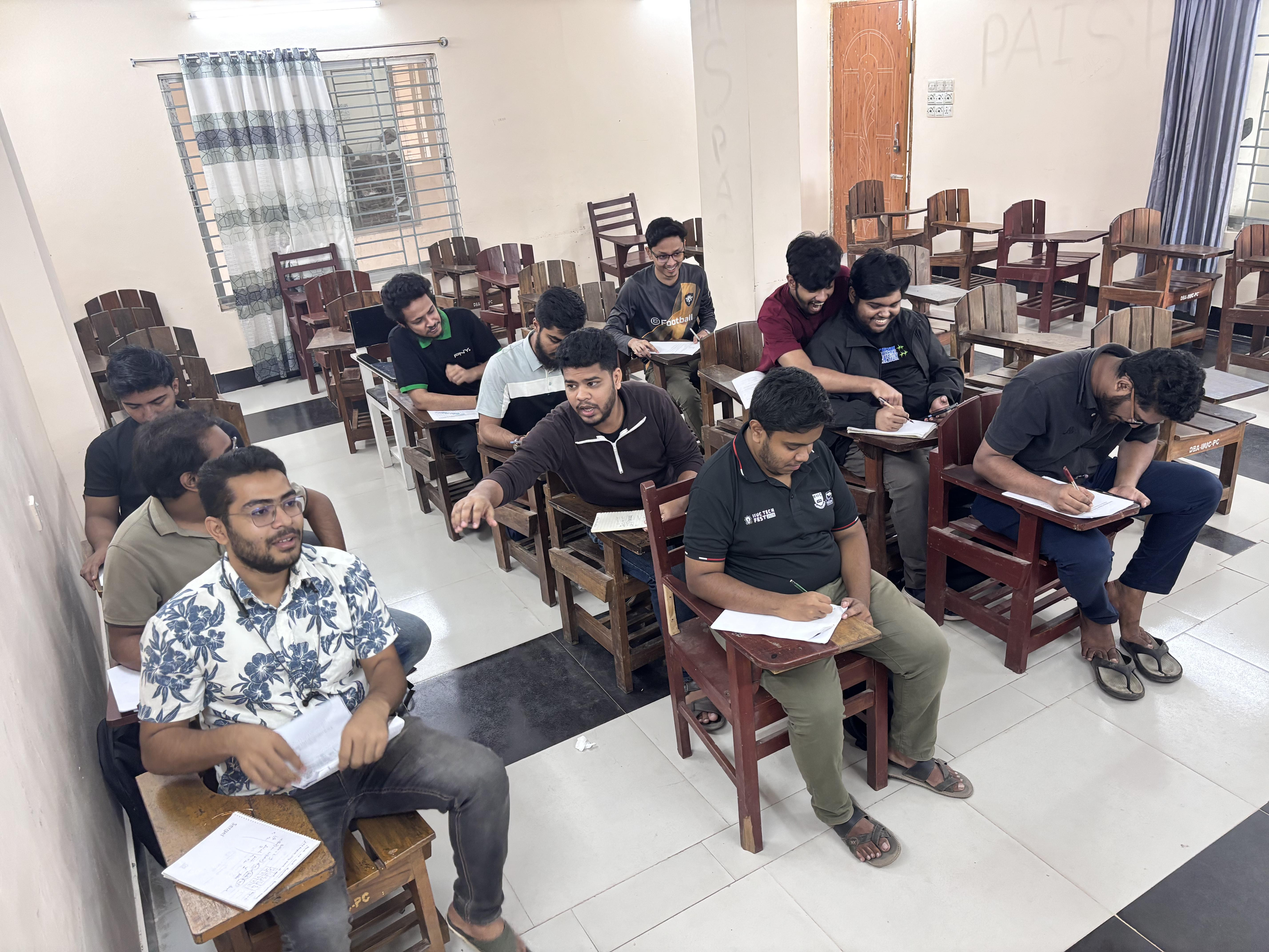copying: (765, 223, 965, 430)
no_cheating: (137, 444, 519, 951), (680, 366, 980, 874), (968, 341, 1234, 716), (69, 346, 194, 571), (471, 281, 589, 458)
side_talking: (444, 329, 712, 587)
suspicious_moving: (107, 409, 244, 694), (373, 273, 499, 442), (613, 211, 722, 379)
